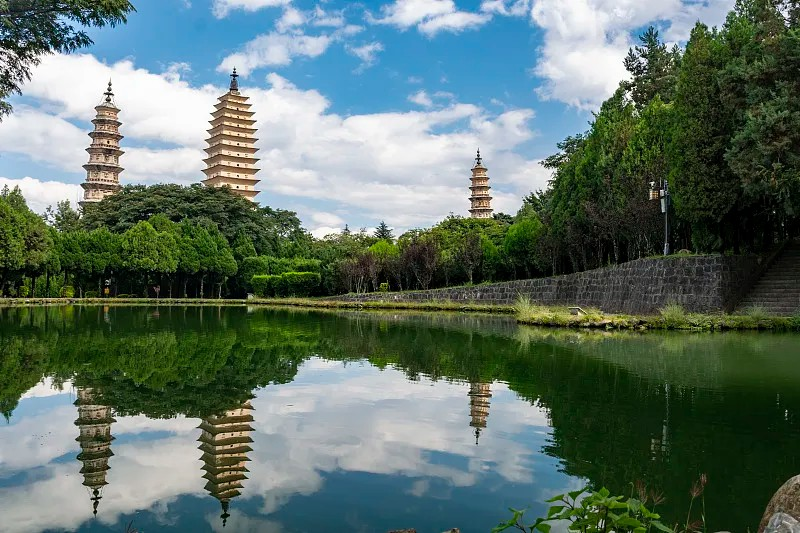ThreePagoda: (200, 65, 261, 203)
